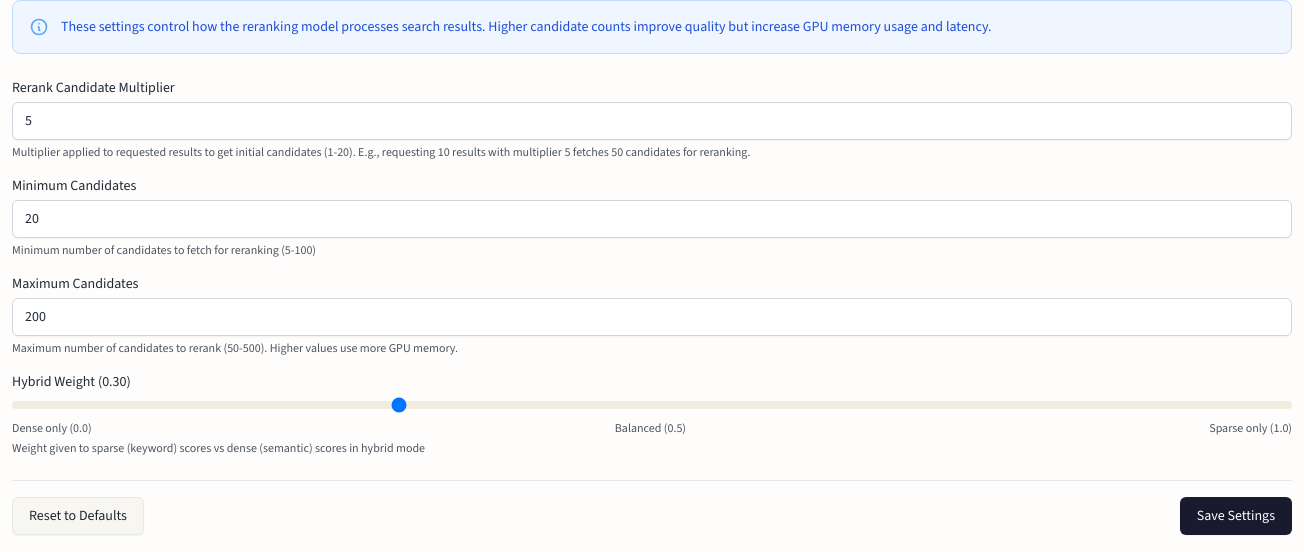
Test: SearchRerankSettings › form interactions › updates candidate multiplier input
Click the number field below "Rerank Candidate Multiplier" at coordinates (652, 121), box [12,102,1292,140]
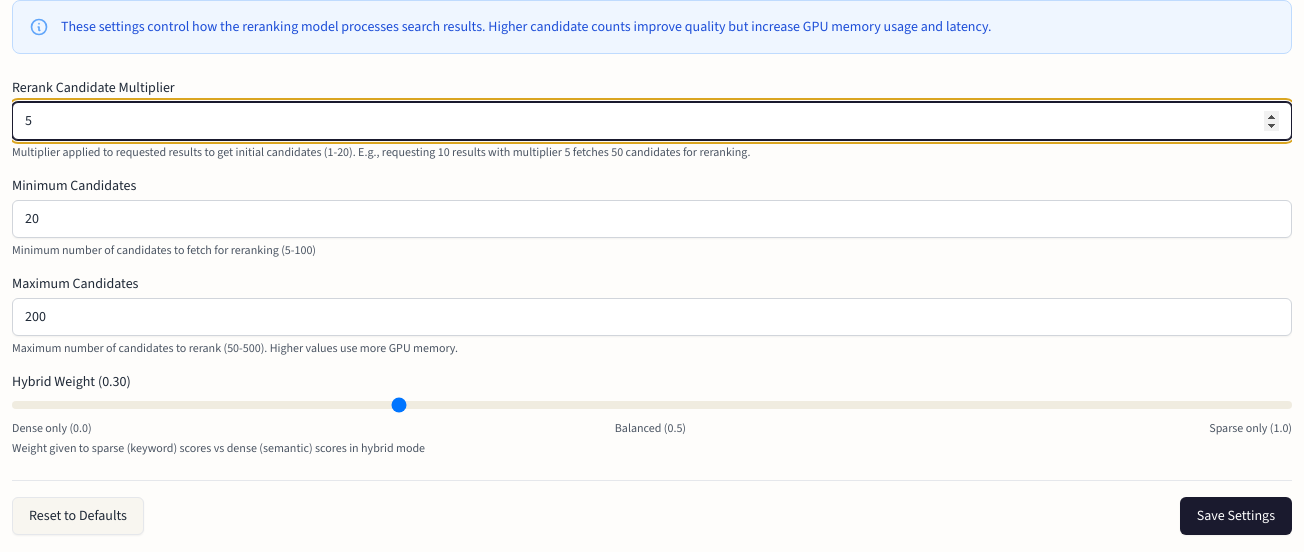
Type keys "10"
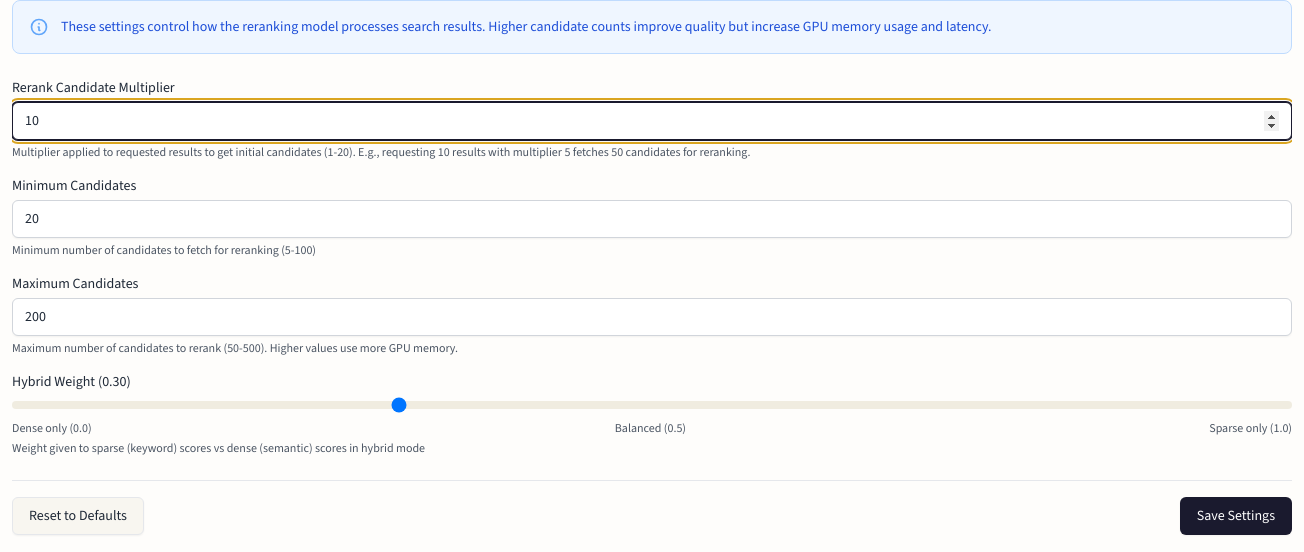
Expected: the number field below "Rerank Candidate Multiplier" holds "10", [12,102,1292,140]
